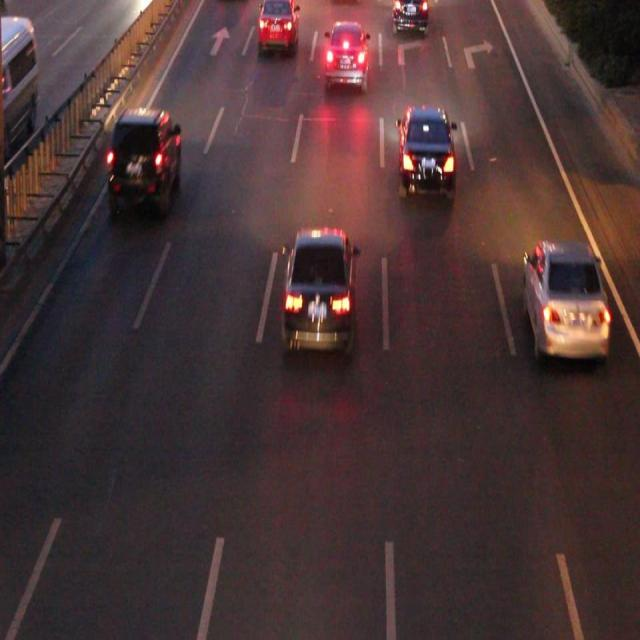car: (523, 241, 605, 356), (287, 229, 353, 347), (112, 113, 178, 206), (397, 109, 452, 193), (324, 24, 366, 89), (260, 1, 297, 44), (393, 1, 426, 31)
